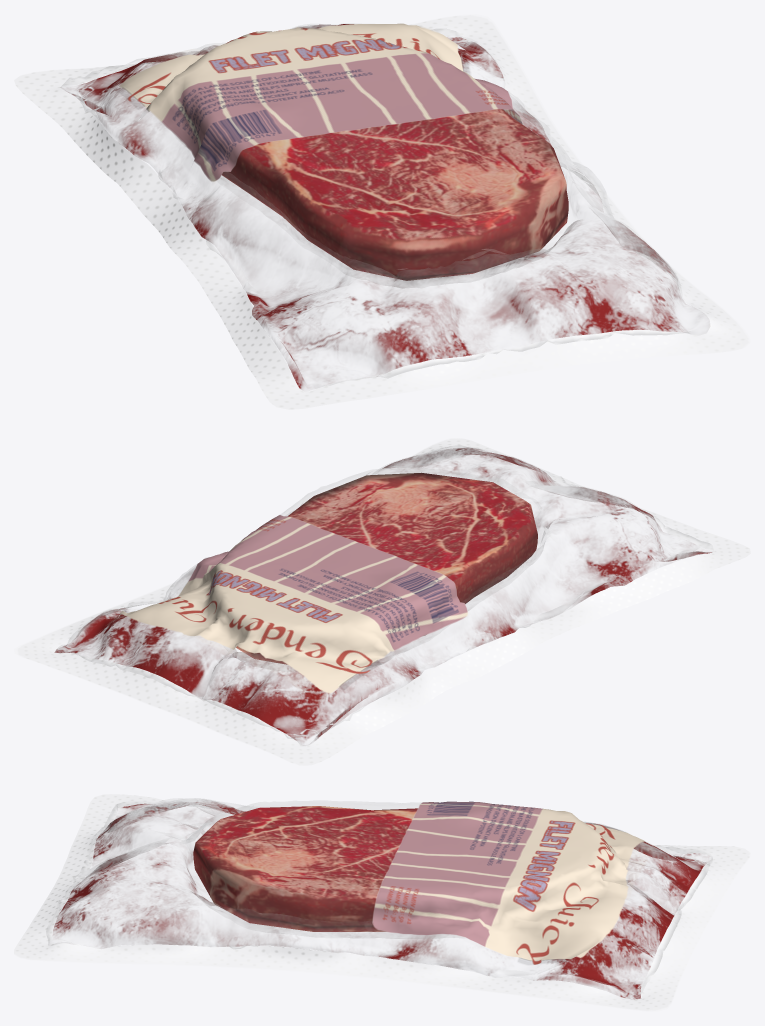
Rendered from beef.glb.
3 views of the same model, one above another, from view 1: azimuth 30°, elevation 25°; view 2: azimuth 150°, elevation 25°; view 3: azimuth 270°, elevation 25° (orthographic). The views are drawn at different scales.
Visible parts, largest first — view 1: Object_4, Object_3, Object_2; view 2: Object_4, Object_3, Object_2; view 3: Object_4, Object_3, Object_2.
Boxes of the visible parts, x1=… form: Object_4: x1=14, y1=15, x2=749, y2=409; Object_3: x1=61, y1=24, x2=709, y2=390; Object_2: x1=222, y1=109, x2=568, y2=280; Object_4: x1=17, y1=438, x2=750, y2=765; Object_3: x1=54, y1=447, x2=712, y2=745; Object_2: x1=236, y1=472, x2=537, y2=664; Object_4: x1=14, y1=794, x2=750, y2=1010; Object_3: x1=52, y1=800, x2=709, y2=999; Object_2: x1=193, y1=806, x2=417, y2=931.
Size of the model in its own units: 25.77 by 3.91 by 36.89.
Materials: 3 (3 with a texture image).
